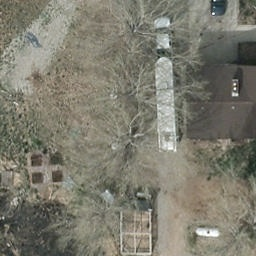camping car: (151, 56, 178, 153)
car: (206, 0, 230, 18)
pickup: (150, 19, 177, 73)
